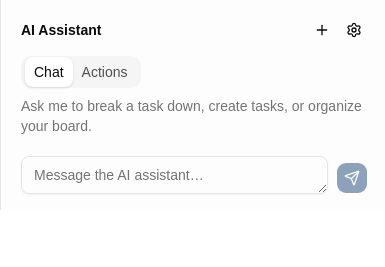
Test: AIChatSidebar › clears the transcript when New conversation is clicked
The width and height of the screenshot is (385, 267).
In the text box with placeholder "Message the AI assistant…": [174, 175] box x1=21 y1=156 x2=328 y2=194, type "hello"
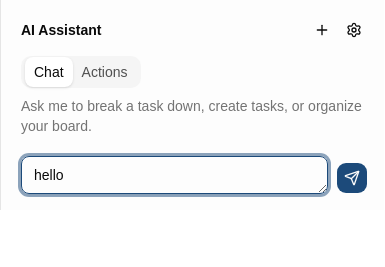
Click the button named "Send message": [352, 178] box x1=336 y1=162 x2=368 y2=194
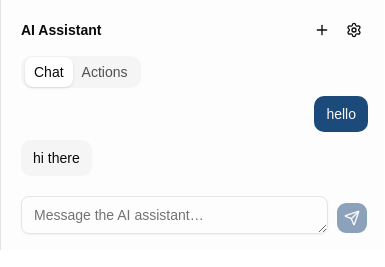
Now the text "hi there" is shown, box x1=21 y1=140 x2=92 y2=176
Click the button named "New conversation": [322, 30] box x1=308 y1=16 x2=336 y2=44
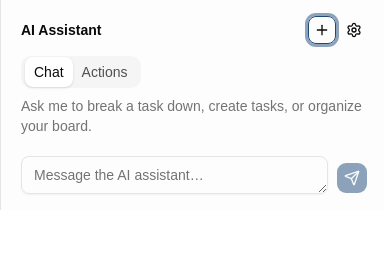
Now the text "hi there" is gone
Now the text "Ask me to break a task down" is shown, box x1=21 y1=98 x2=362 y2=134
